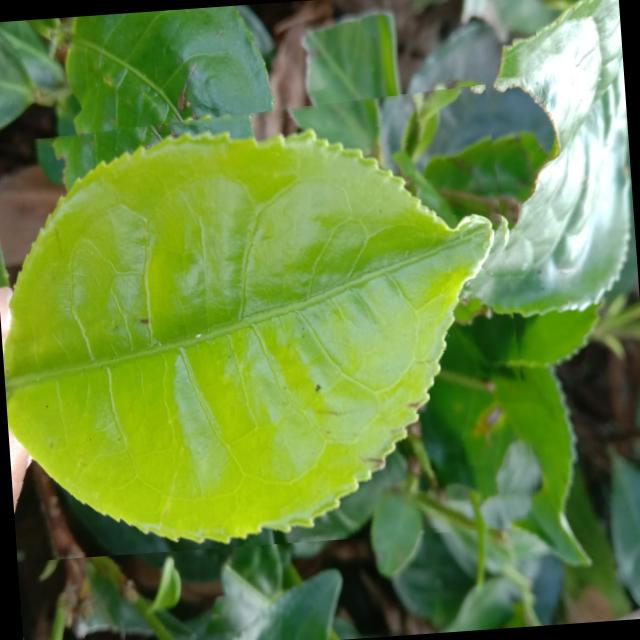Category B(2-4 days): (0, 82, 538, 561)
